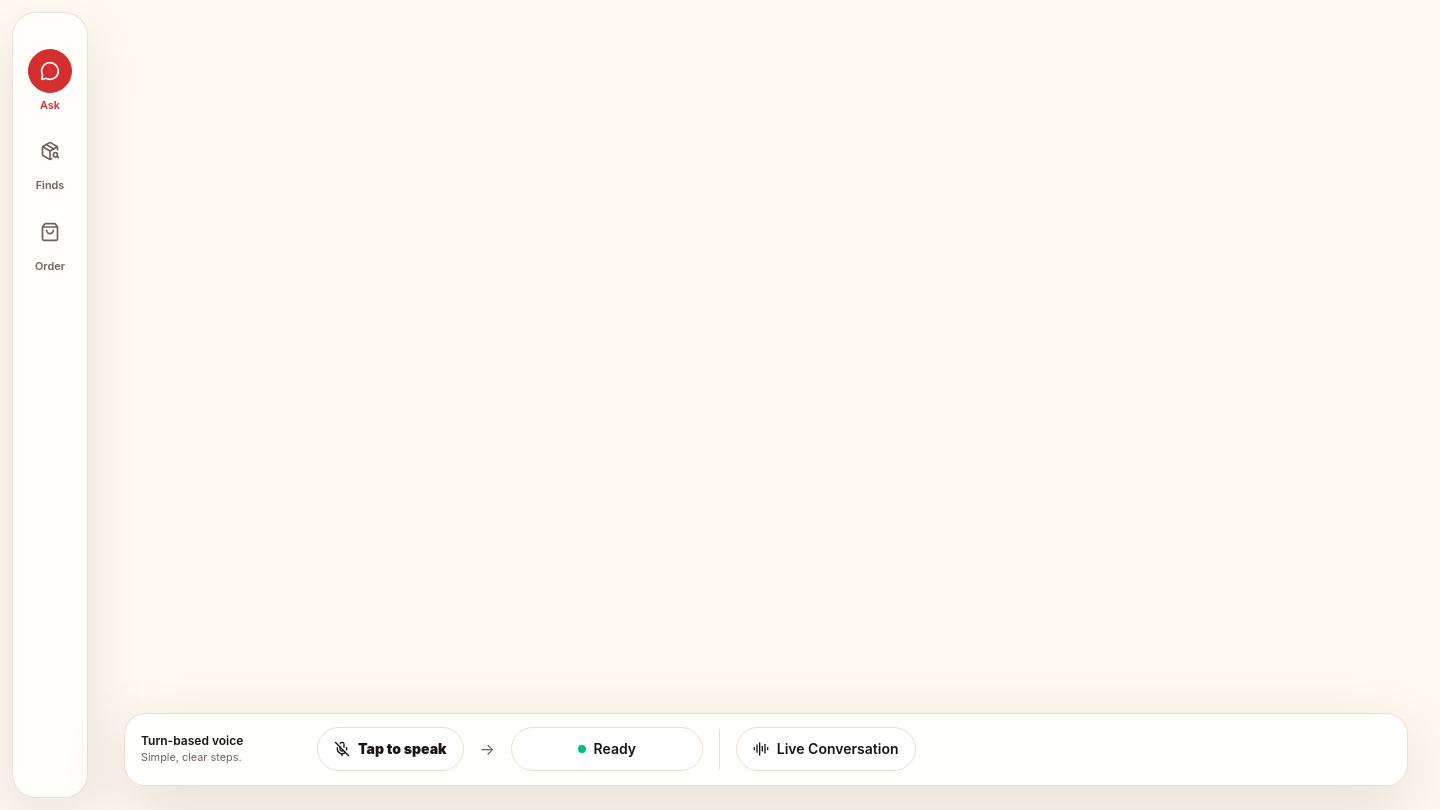
Test: VoiceSidebar › shows expected microphone failures without rethrowing live conversation
The image size is (1440, 810).
Click the button "Live Conversation". click: (826, 749)
box: [736,727,916,771]
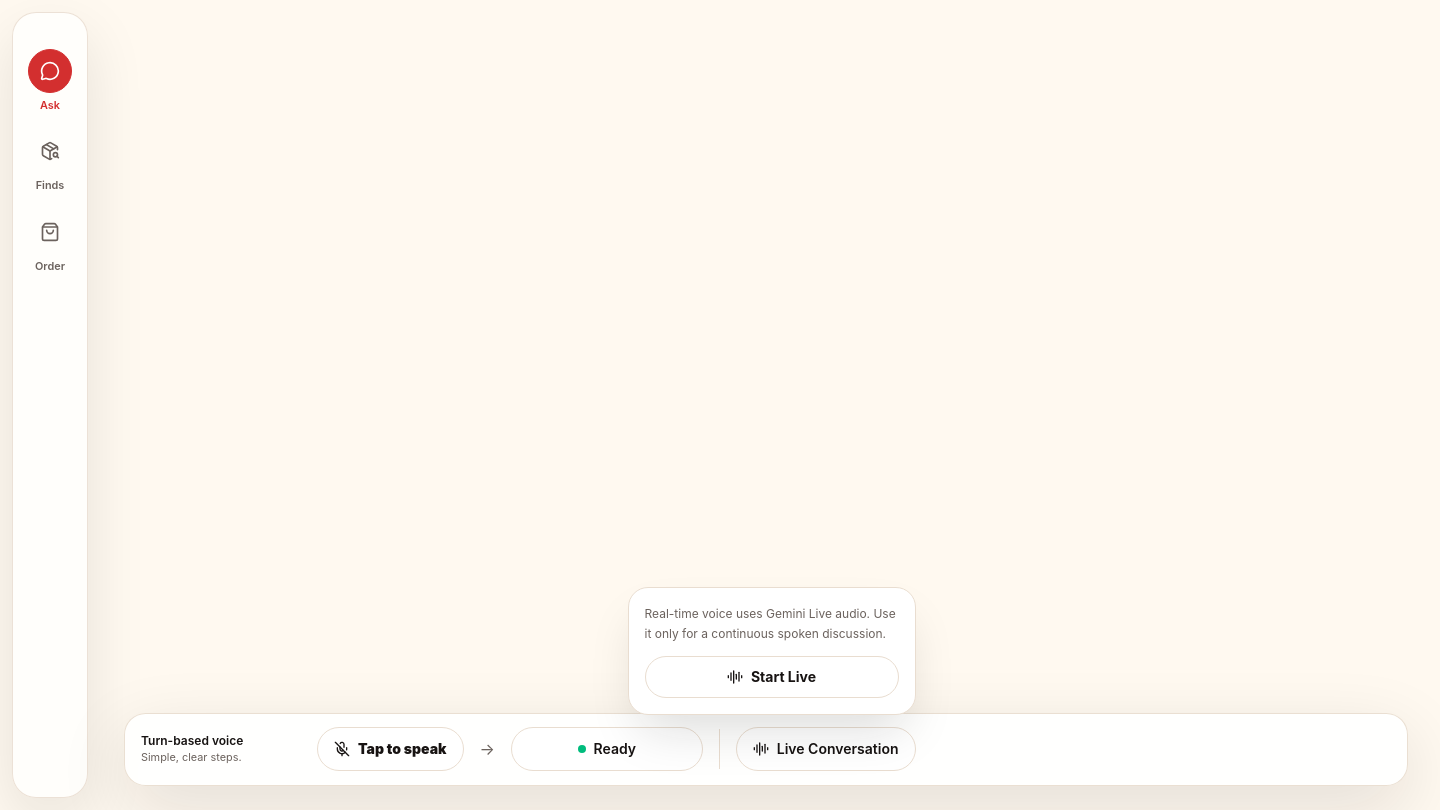
Click the button "Start Live". click: (772, 677)
box: [644,656,898,698]
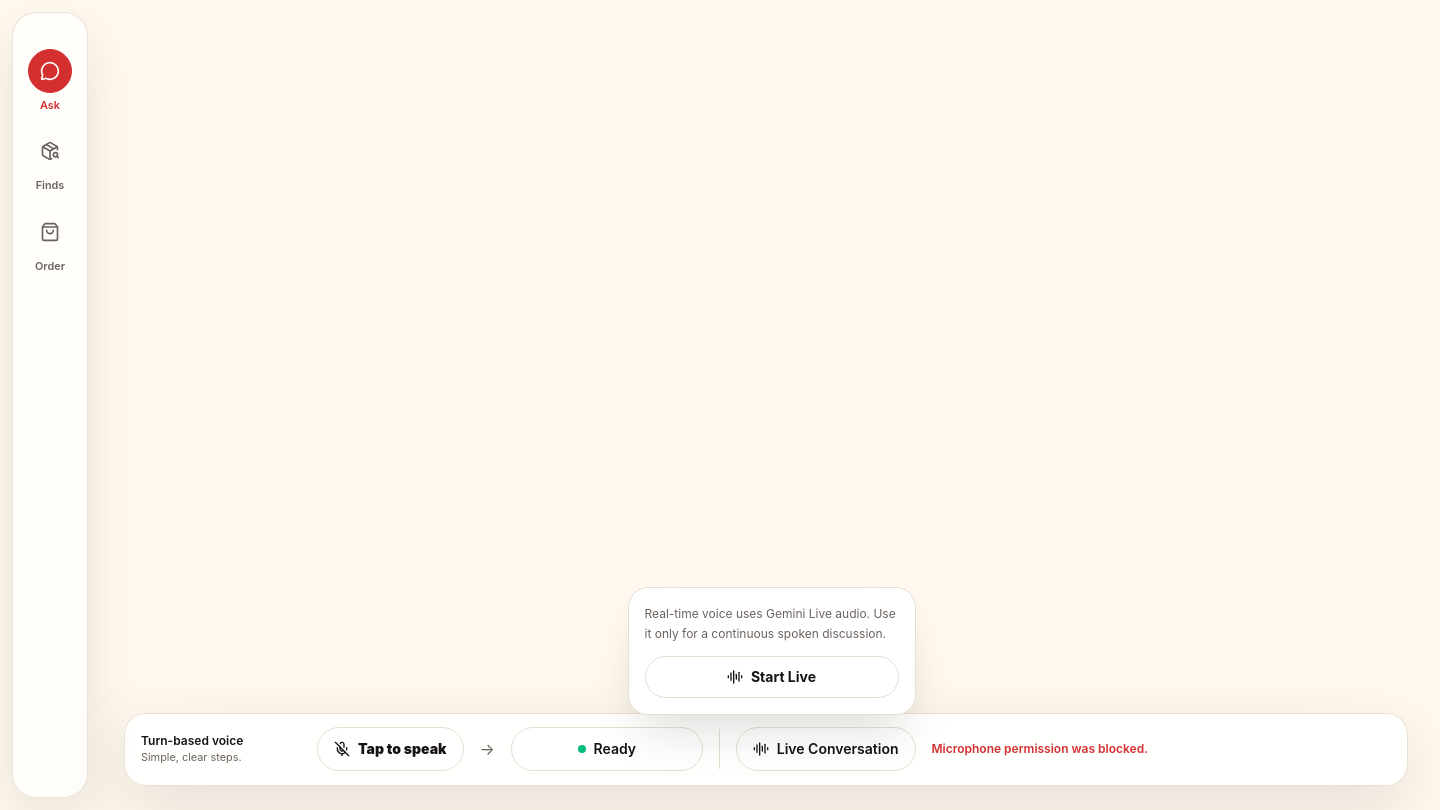
Now the text "Microphone permission was blocked." is shown, box [932,741,1148,757]
